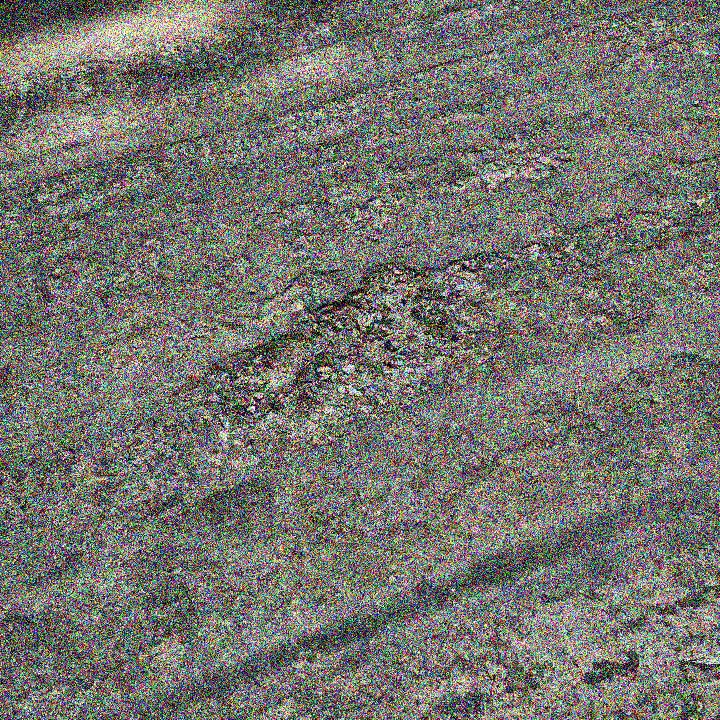pothole: (203, 254, 451, 424), (447, 144, 572, 192)
